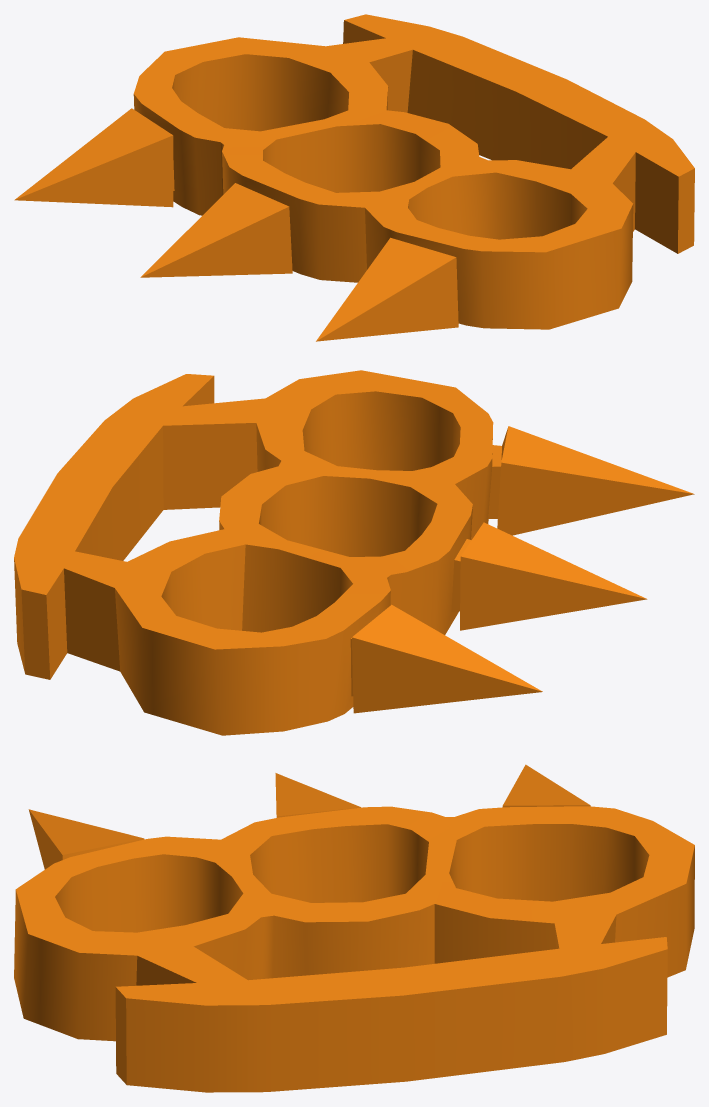
The model's file is brassknuckles.fbx.
The picture shows the model from 3 angles, top to bottom: view 1: azimuth 30°, elevation 25°; view 2: azimuth 150°, elevation 25°; view 3: azimuth 270°, elevation 25°; orthographic projection. The views are drawn at different scales.
Visible parts, largest first — view 1: brassknuckles; view 2: brassknuckles; view 3: brassknuckles.
Part boxes in pixels (x1,y1,x2,y2): brassknuckles: (14,14,694,341); brassknuckles: (14,370,694,735); brassknuckles: (14,764,694,1092).
Size of the model in its own units: 10.5 by 10.61 by 1.51.
